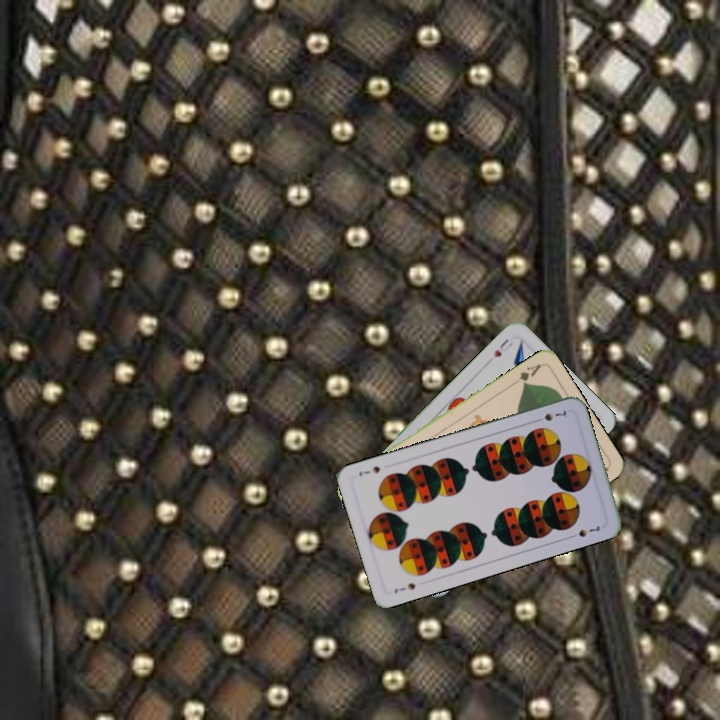GA: (509, 360, 544, 388)
HU: (489, 335, 515, 360)
S7: (531, 406, 569, 425), (390, 579, 418, 596)
